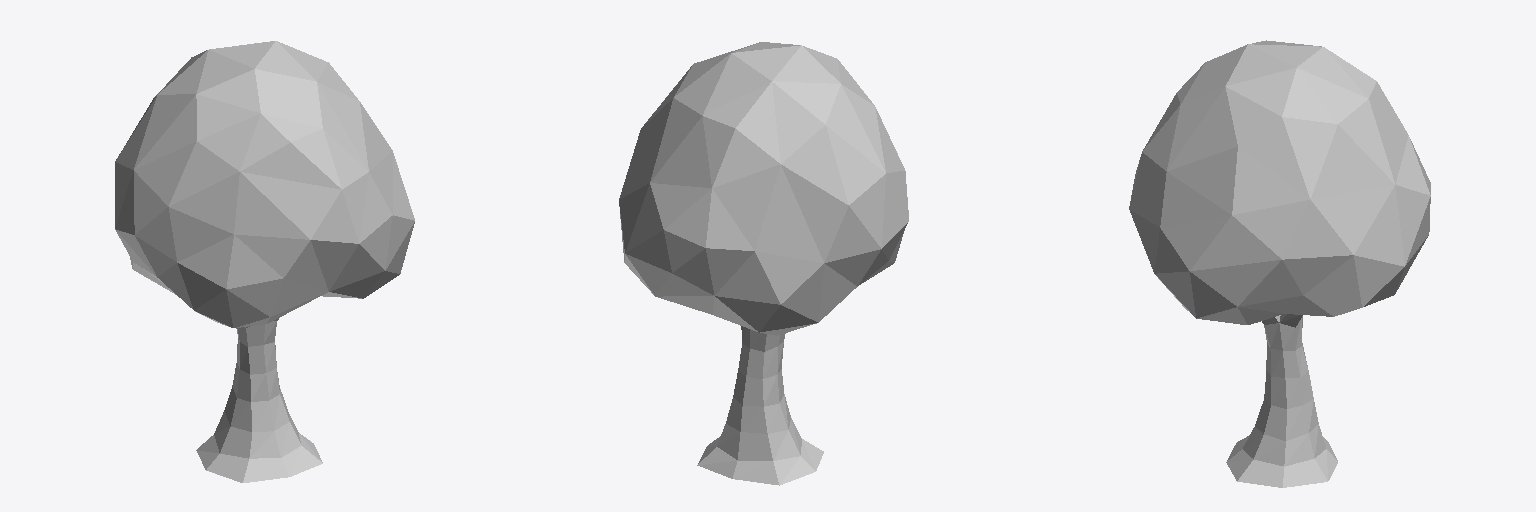
Rendered from arbol7.obj.
The picture shows the model from 3 angles: view 1: azimuth 30°, elevation 25°; view 2: azimuth 150°, elevation 25°; view 3: azimuth 270°, elevation 25°; orthographic projection.
Parts seen in each view (by area): view 1: polySurface1; view 2: polySurface1; view 3: polySurface1.
Part boxes in pixels (x1,y1,x2,y2): polySurface1: (115,41,414,482); polySurface1: (619,42,908,485); polySurface1: (1129,40,1430,487).
Bounding box in the file's own units: 1.35 × 2 × 1.34.